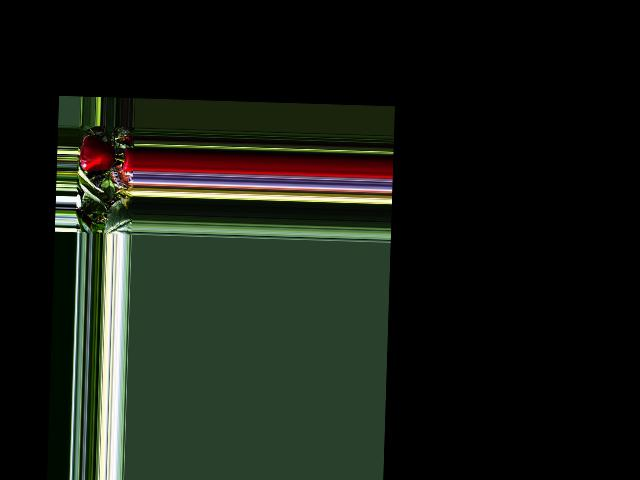bell_pepper: (119, 146, 135, 174)
